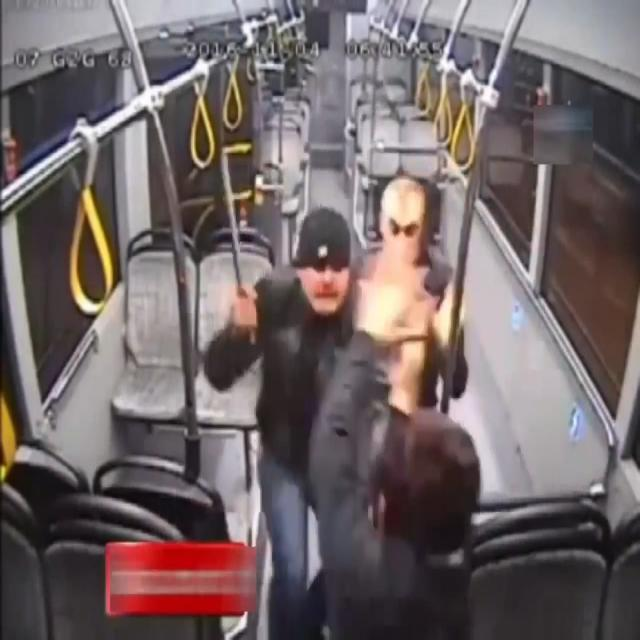fight: (204, 175, 481, 632)
